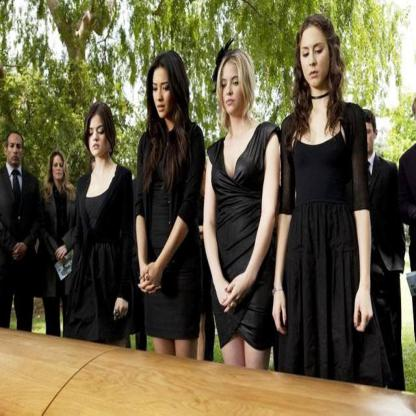face: (301, 28, 330, 87), (222, 63, 244, 113), (154, 69, 176, 118), (89, 115, 109, 156), (9, 134, 23, 166), (202, 157, 213, 193), (362, 123, 375, 152), (54, 156, 65, 179)
